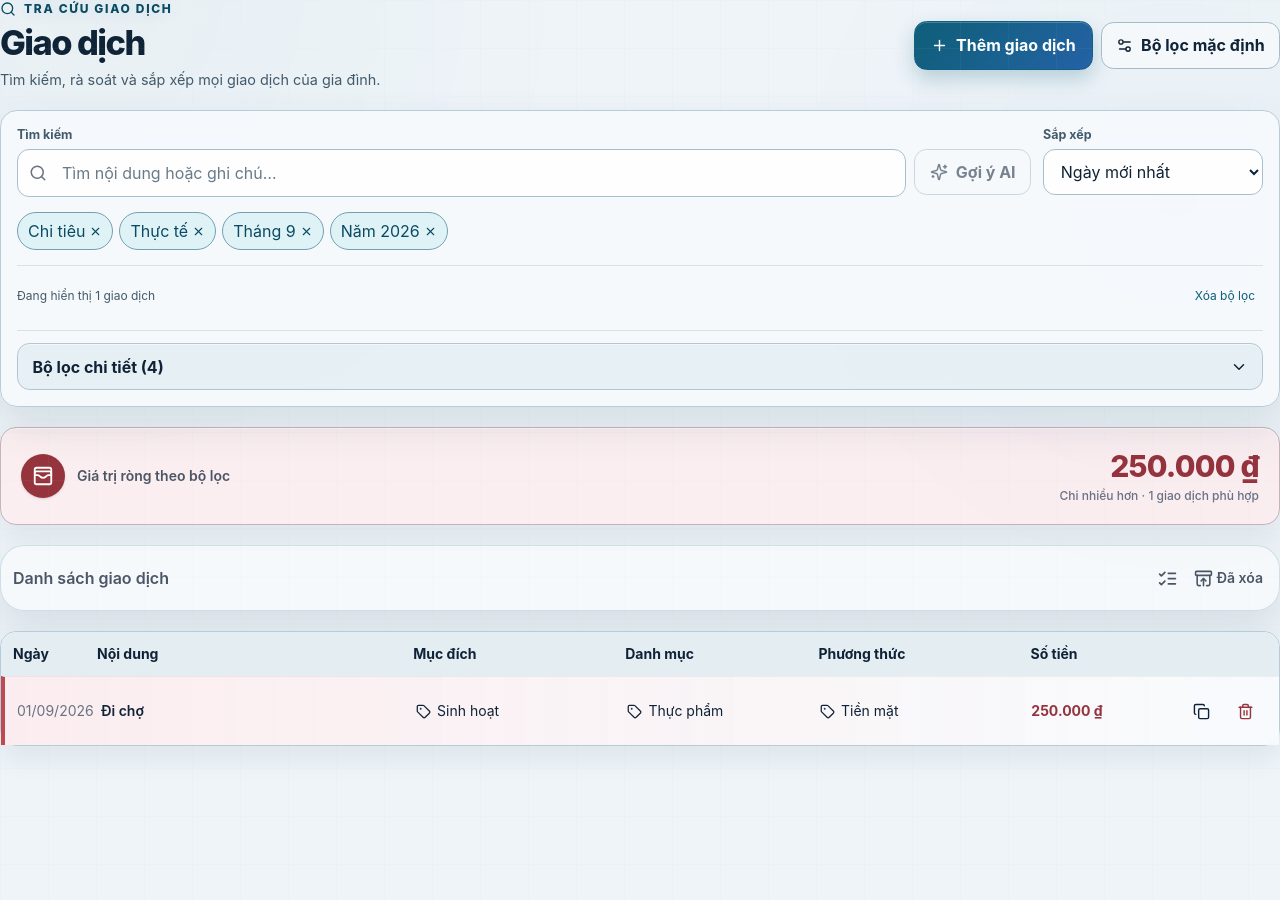
Scenario: Giao dịch mobile › mở modal sửa hàng loạt sau khi chọn tất cả giao dịch đang hiển thị
Click the button named "Chọn nhiều giao dịch".
click(1168, 578)  # box [1146,556,1190,600]
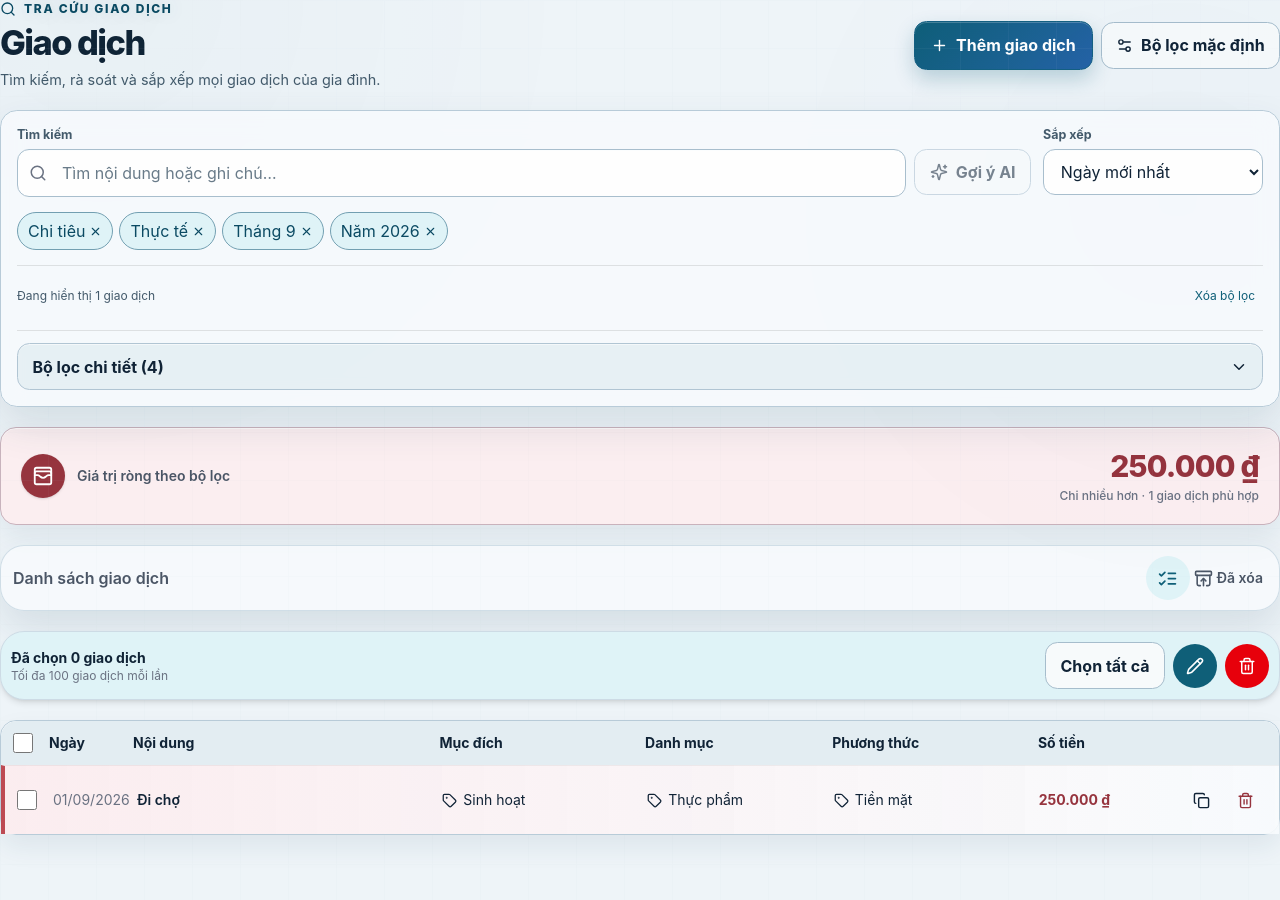
Click the button "Chọn tất cả".
click(1105, 666)  # box [1045,642,1165,689]
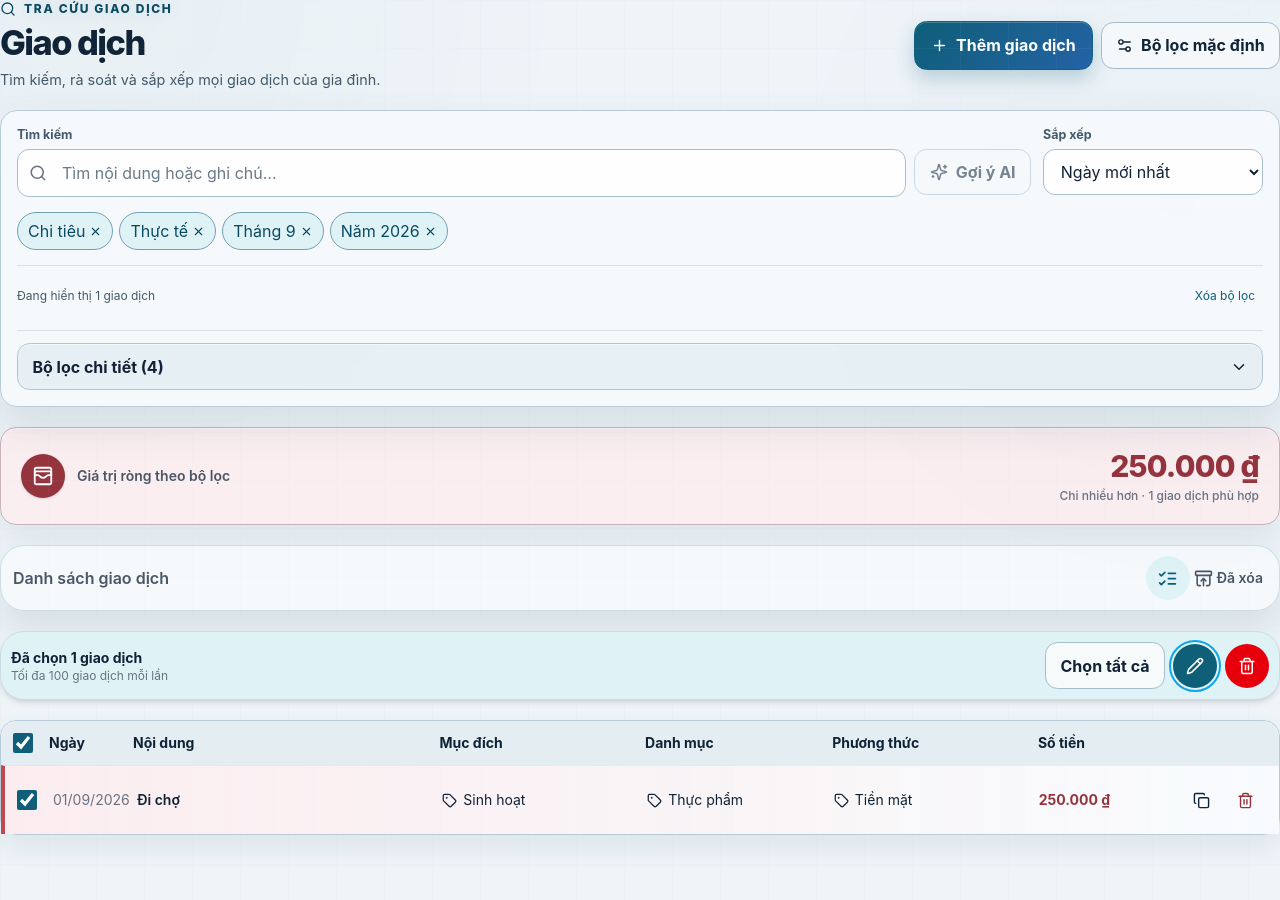
Expected: the button named "Sửa các giao dịch đã chọn" is enabled
Click the button named "Sửa các giao dịch đã chọn".
click(1195, 666)  # box [1173,644,1217,688]
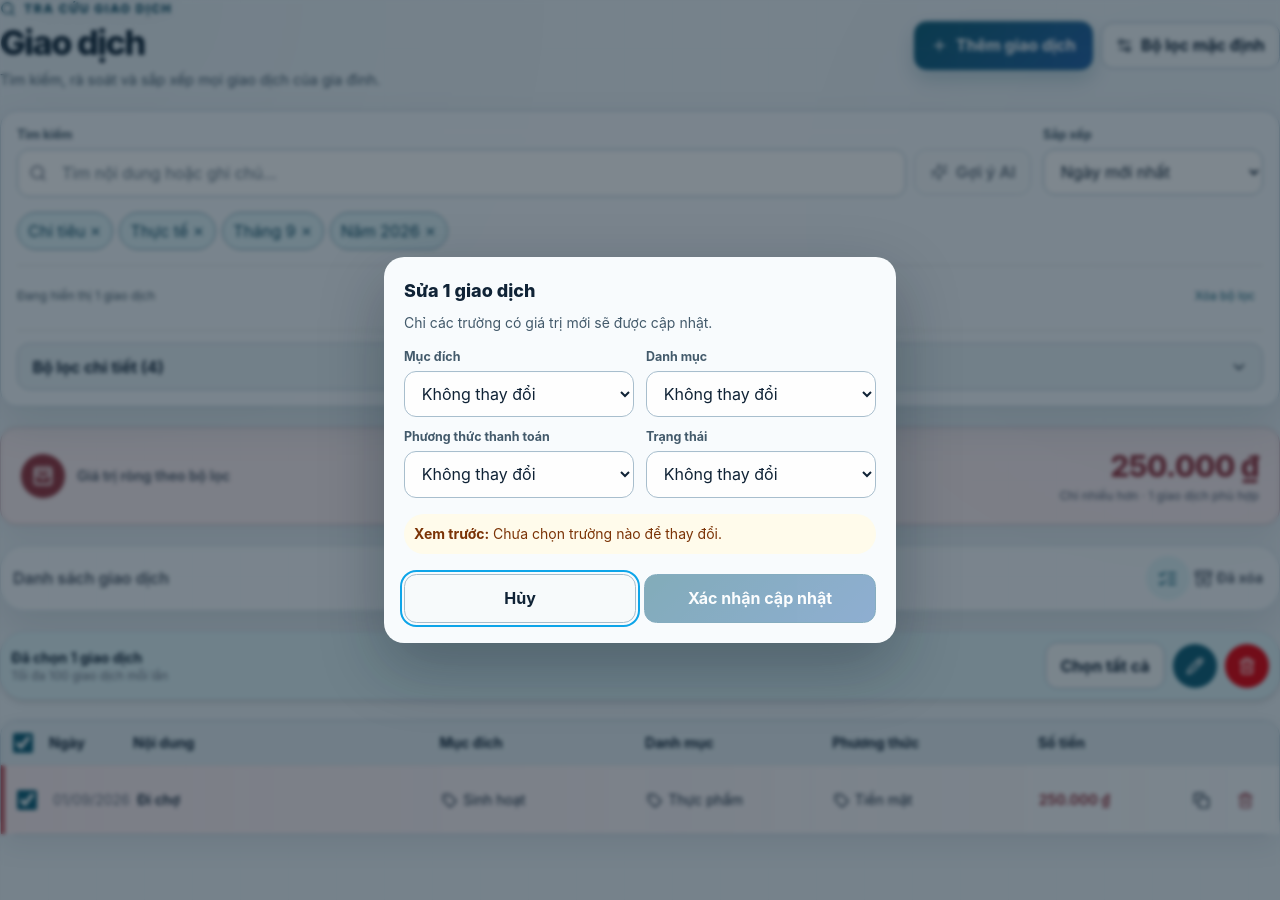
Press Escape
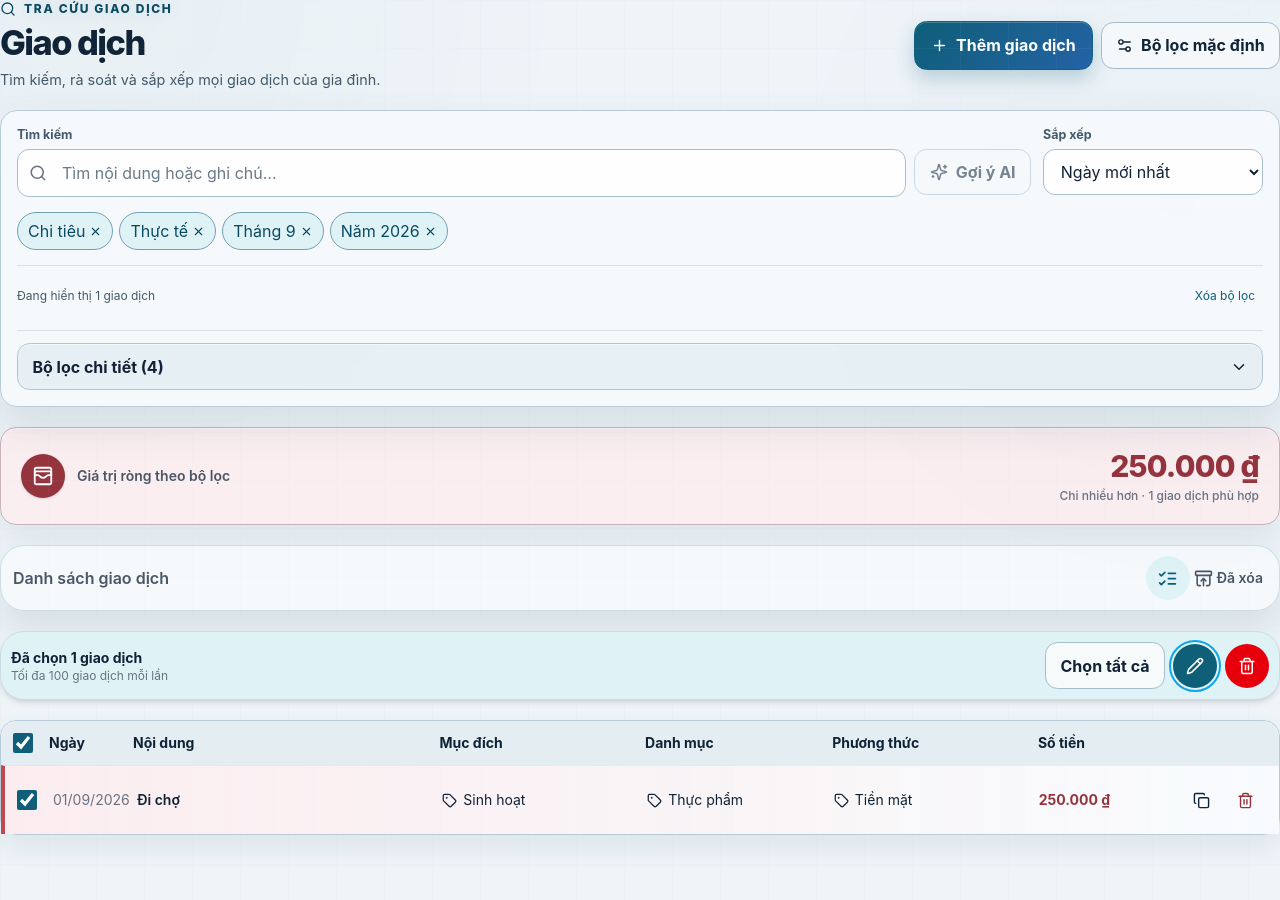
Expected: the heading "Sửa 1 giao dịch" is gone
